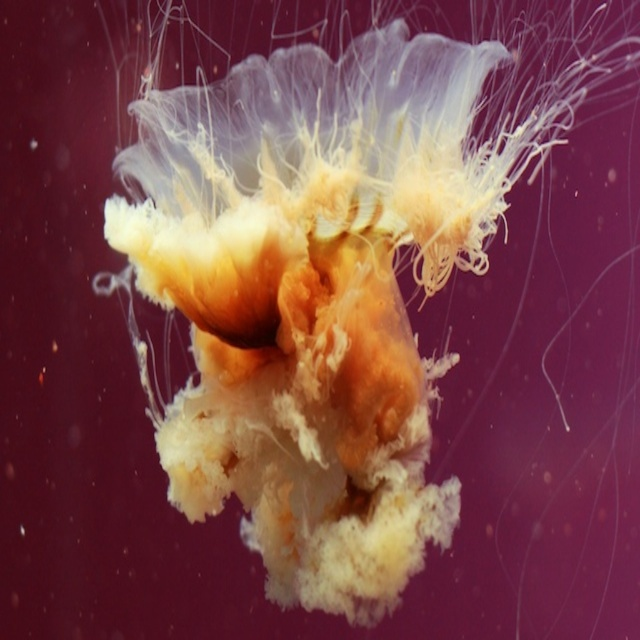Jellyfish: (92, 0, 639, 629)
